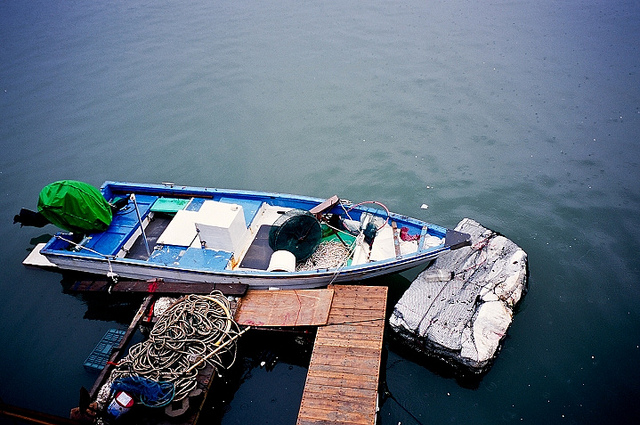fishing_boat: (14, 159, 471, 290)
